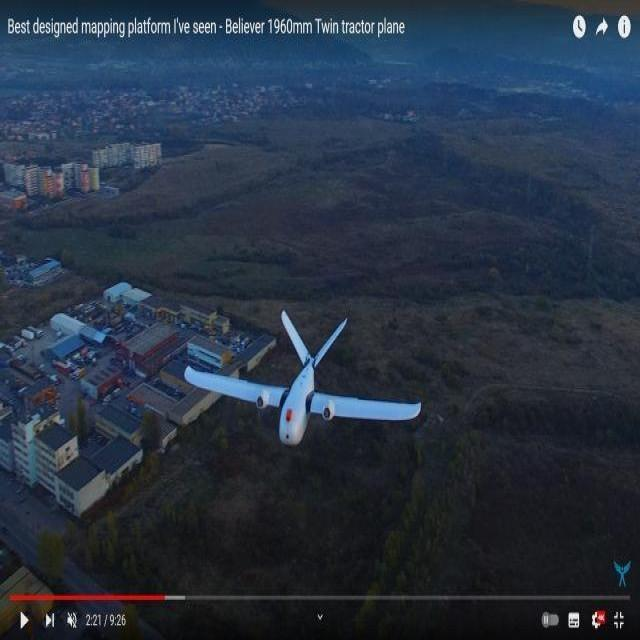Airplane: (177, 298, 426, 449)
